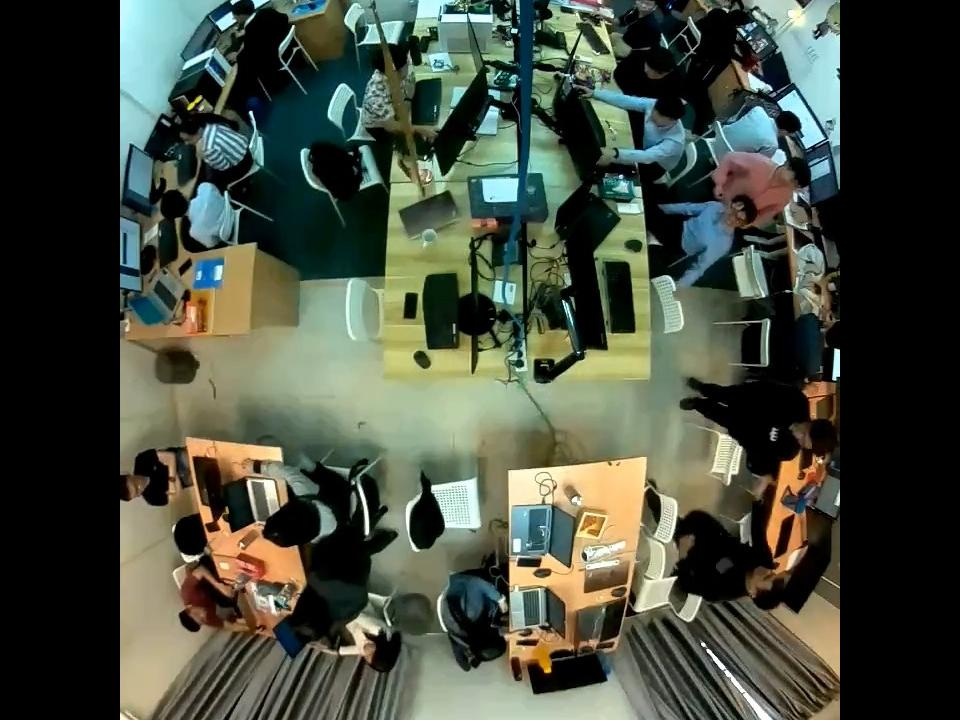name-tag: (766, 422, 782, 444)
